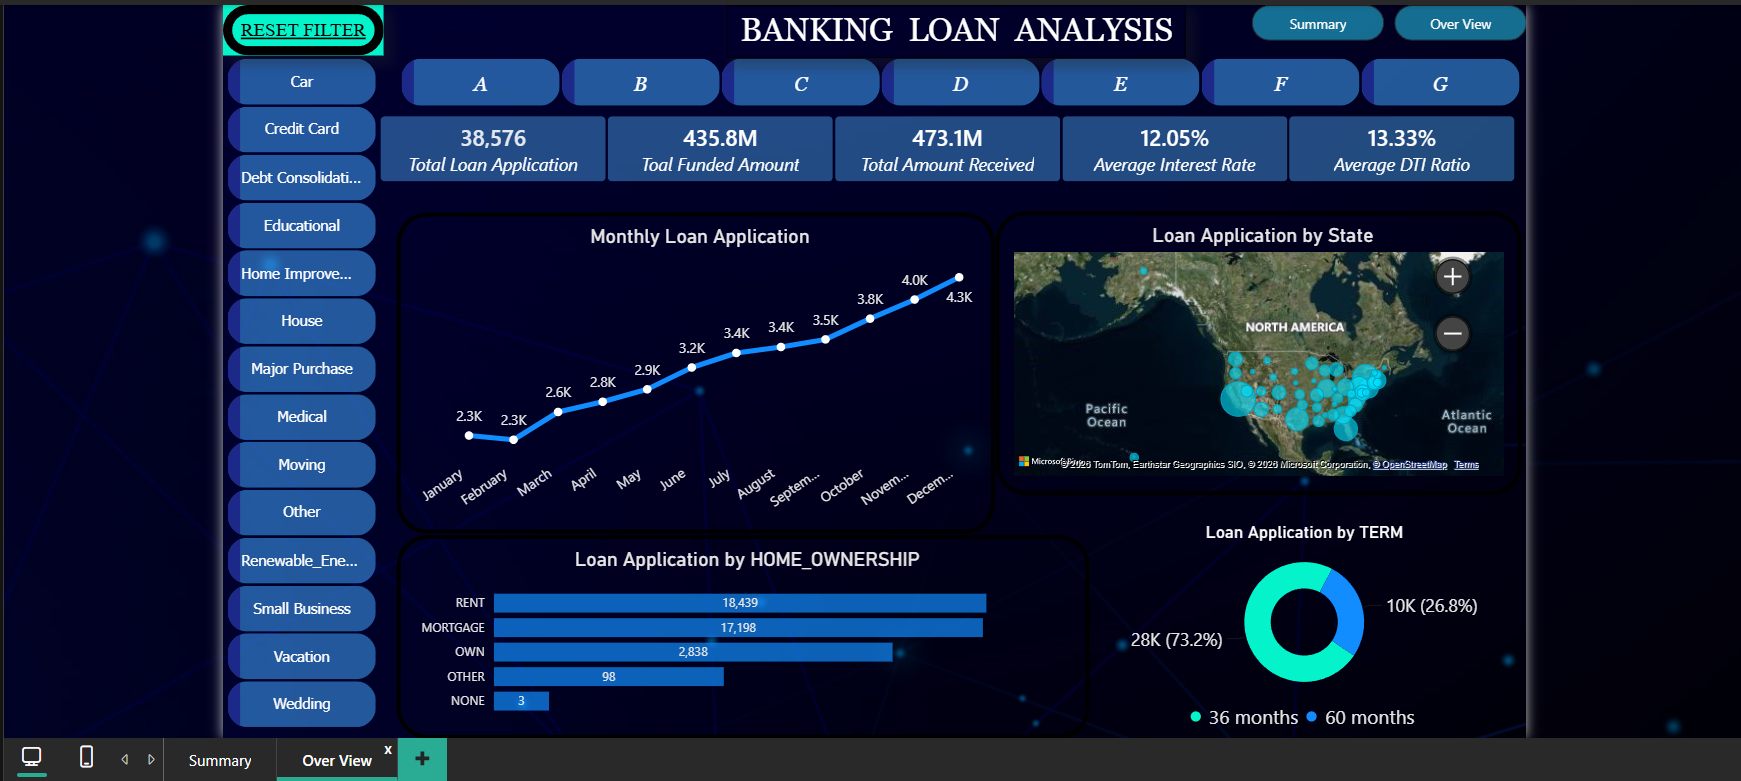

This screenshot's page, from the dashboard's own definition file:
{"tool":"powerbi","page":{"name":"Over View ","canvas":[1280,720],"ordinal":1},"visuals":[{"type":"cardVisual","fields":{"Data":["financial_loan.Total Loan Application","financial_loan.Toal Funded Amount","financial_loan.Total Amount Received","financial_loan.Average Interest Rate","financial_loan.Average DTI Rate"]},"box":[149.9,104.5,1125.1,74.2],"z":0},{"type":"advancedSlicerVisual","fields":{"Values":["financial_loan.PURPOSE"]},"box":[0,48.5,156,670.8],"z":1000},{"type":"advancedSlicerVisual","fields":{"Values":["financial_loan.GRADE"]},"box":[170.2,48,1110.1,56.3],"z":2000},{"type":"textbox","box":[494,0,450.1,52.1],"z":3000},{"type":"actionButton","box":[0,0,157.8,49.4],"z":4000},{"type":"pageNavigator","box":[1010,0,270,35.8],"z":5000},{"type":"lineChart","title":"Monthly Loan Application","fields":{"Category":["financial_loan.ISSUE_DATE.Variation.Date Hierarchy.Month"],"Y":["financial_loan.Total Loan Application"]},"box":[170.8,203.3,587.2,315.5],"z":6000},{"type":"donutChart","title":"Loan Application by TERM","fields":{"Category":["financial_loan.TERM"],"Y":["financial_loan.Total Loan Application"]},"box":[843,507.2,437.2,213.7],"z":7000},{"type":"clusteredBarChart","title":"Loan Application by HOME_OWNERSHIP","fields":{"Category":["financial_loan.HOME_OWNERSHIP"],"Y":["financial_loan.Total Loan Application"]},"box":[170.6,520.7,679.6,200.2],"z":8000},{"type":"map","title":"Loan Application by State","fields":{"Category":["financial_loan.ADDRESS_STATE"],"Size":["financial_loan.Total Loan Application"]},"box":[758,203,517,278],"z":9001}]}

Visuals, with their boxes on the page's 1280x720 design canvas (x1, y1, x2, y2). These are canvas units, not pixel positions in the 1741x781 screenshot, which may show the page scaled, cropped or inside an application window:
cardVisual - financial_loan.Total Loan Application x financial_loan.Toal Funded Amount: box(150, 104, 1275, 179)
advancedSlicerVisual - financial_loan.PURPOSE: box(0, 48, 156, 719)
advancedSlicerVisual - financial_loan.GRADE: box(170, 48, 1280, 104)
textbox: box(494, 0, 944, 52)
actionButton: box(0, 0, 158, 49)
pageNavigator: box(1010, 0, 1280, 36)
"Monthly Loan Application" lineChart: box(171, 203, 758, 519)
"Loan Application by TERM" donutChart: box(843, 507, 1280, 721)
"Loan Application by HOME_OWNERSHIP" clusteredBarChart: box(171, 521, 850, 721)
"Loan Application by State" map: box(758, 203, 1275, 481)
